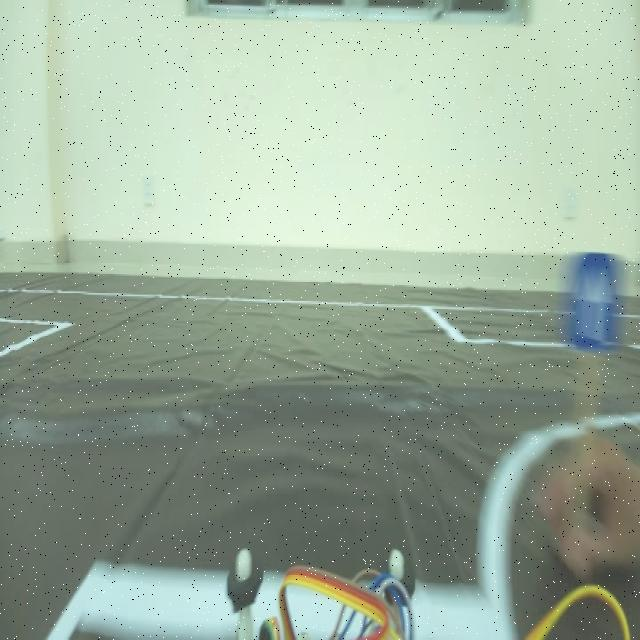onewayroad: (564, 250, 626, 344)
